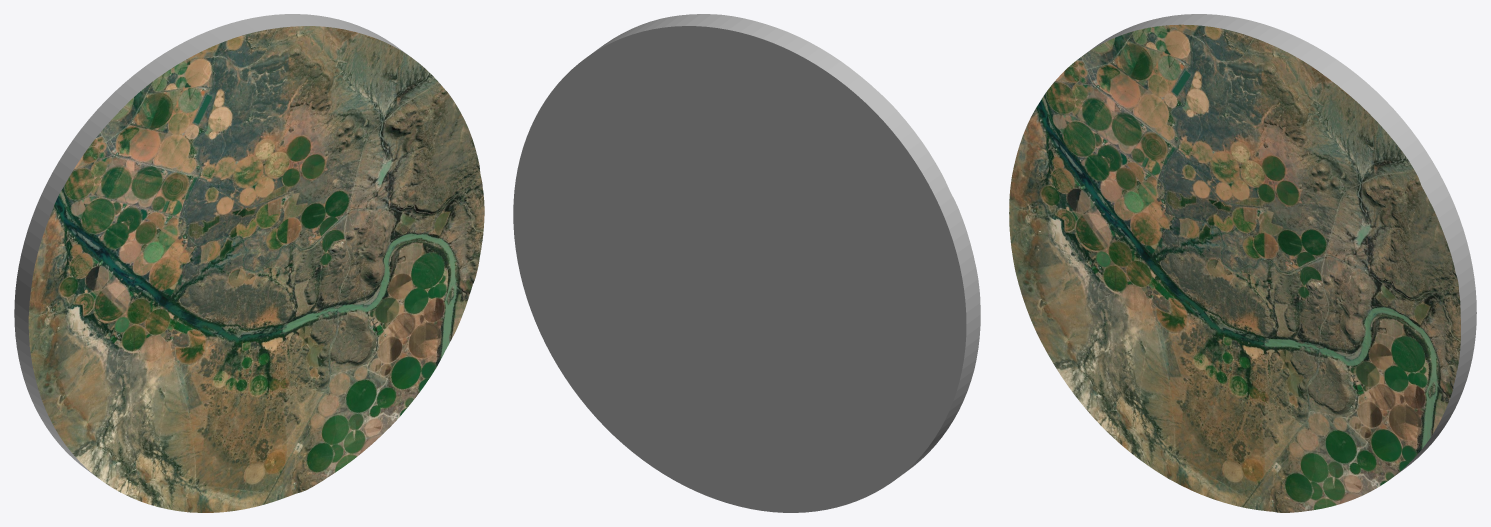
File: deaar_kimberley.glb
The picture shows the model from 3 angles, left to right: view 1: azimuth 30°, elevation 25°; view 2: azimuth 150°, elevation 25°; view 3: azimuth 330°, elevation 25°; orthographic projection.
Bounding box in the file's own units: 200 × 200 × 14.36.
Materials: 2 (1 with a texture image).
